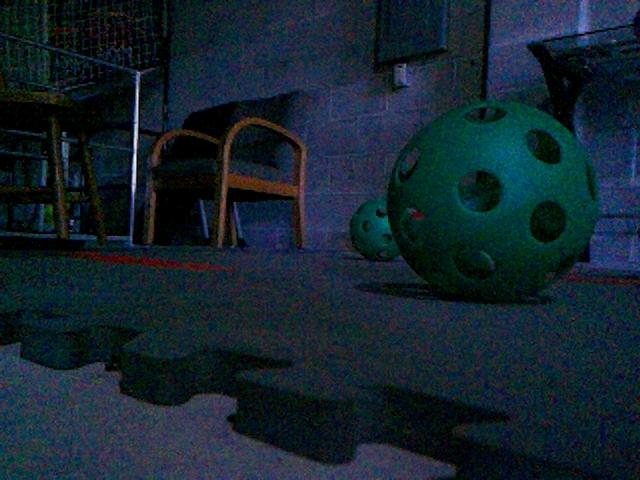Green: (384, 95, 600, 304), (351, 194, 402, 263)
